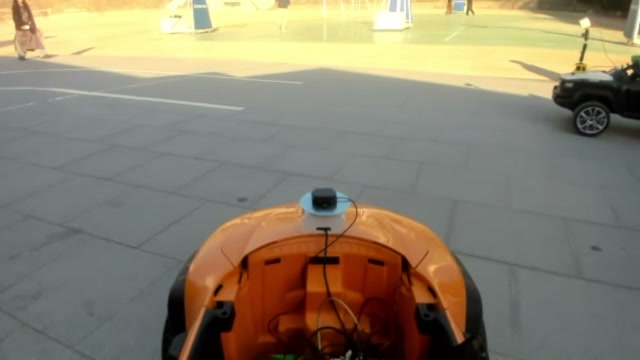Lane: (2, 85, 244, 111), (0, 68, 304, 86)
